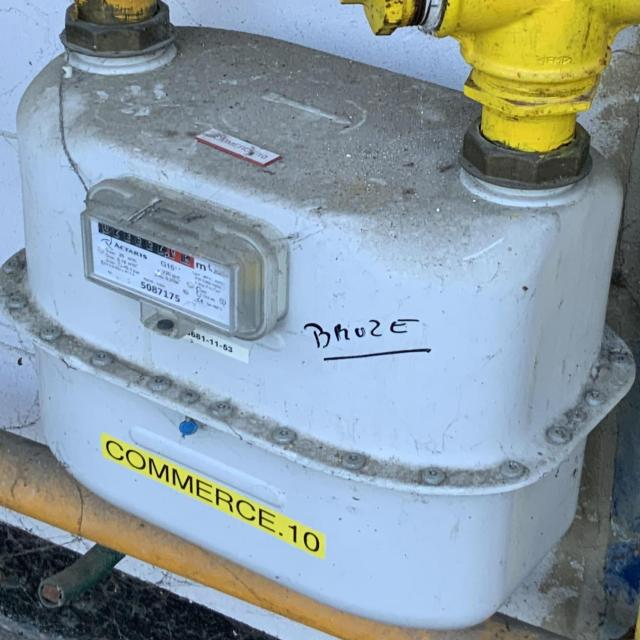gaz_meter: (86, 203, 240, 337)
indication: (98, 221, 194, 268)
